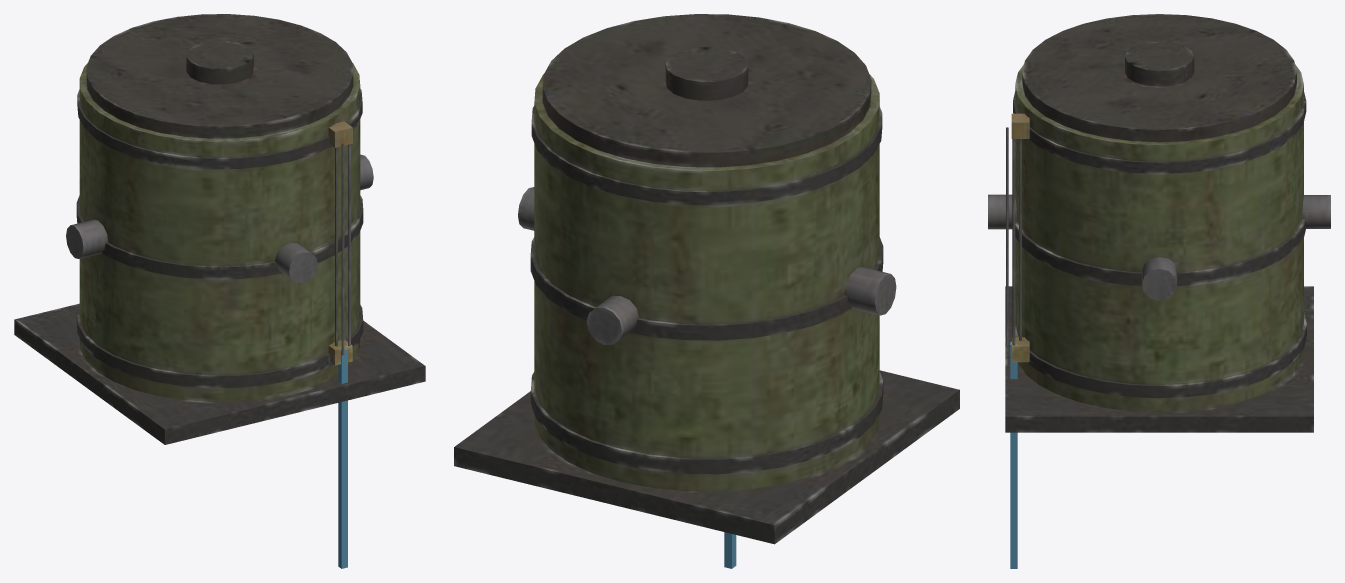
Rendered from feTankLiquid.glb.
3 views of the same model, side by side, from view 1: azimuth 30°, elevation 25°; view 2: azimuth 150°, elevation 25°; view 3: azimuth 270°, elevation 25° (orthographic). The views are drawn at different scales.
Visible parts, largest first — view 1: feTankLiquid_Base, FeSurface_r0.70_Level; view 2: feTankLiquid_Base; view 3: feTankLiquid_Base, FeSurface_r0.70_Level.
Boxes of the visible parts, bbox=[...] form: feTankLiquid_Base: bbox=[14, 14, 425, 444]; FeSurface_r0.70_Level: bbox=[338, 348, 347, 568]; feTankLiquid_Base: bbox=[454, 14, 959, 544]; feTankLiquid_Base: bbox=[988, 14, 1330, 432]; FeSurface_r0.70_Level: bbox=[1010, 342, 1017, 568].
Size of the model in its own units: 1 by 1.56 by 1.
Materials: 2 (1 with a texture image).
